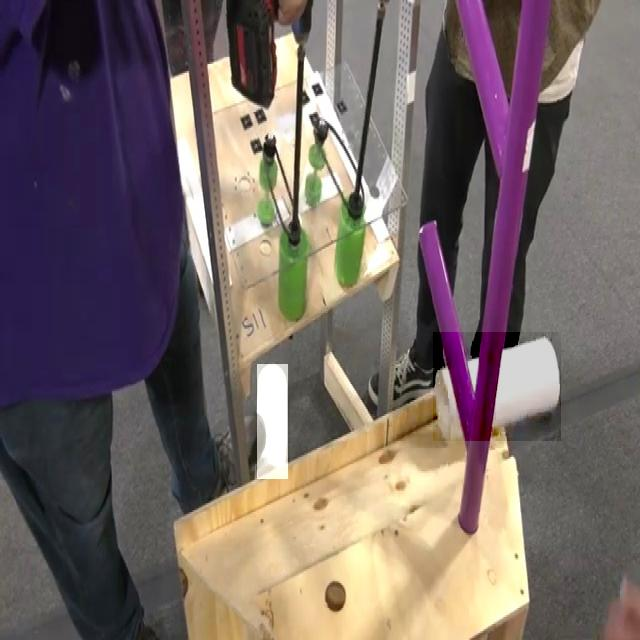Coral: (433, 332, 561, 441), (257, 364, 288, 479)
